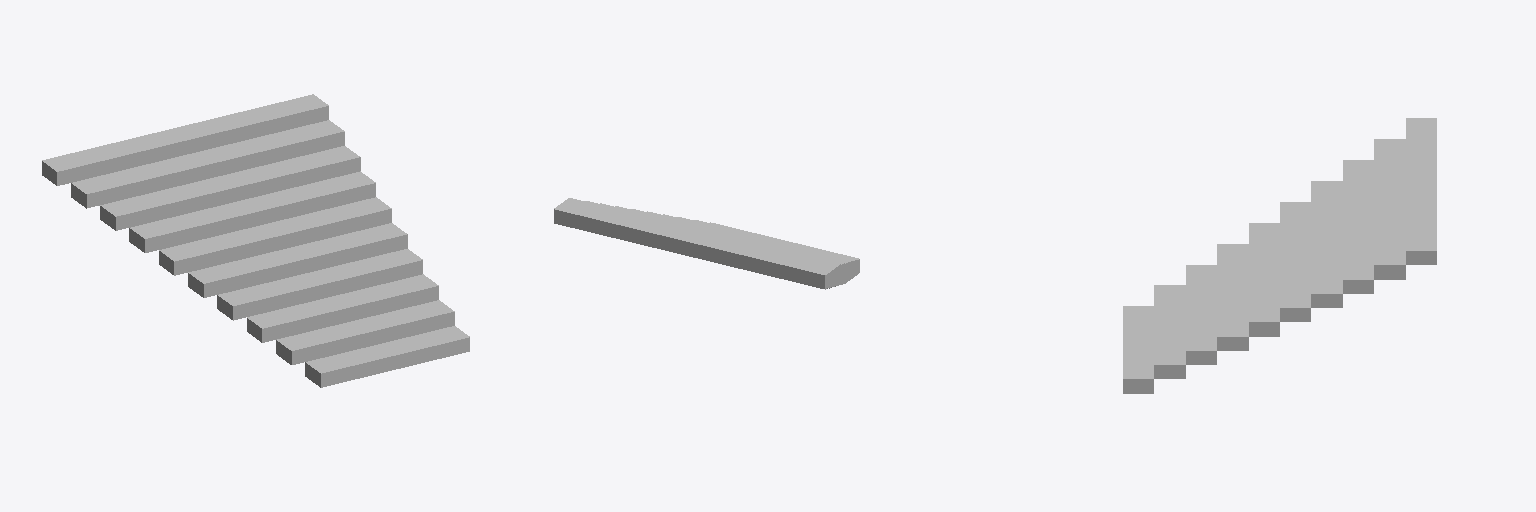
The model's file is Stair_Left.obj.
3 renders of one model, left to right at view 1: azimuth 30°, elevation 25°; view 2: azimuth 150°, elevation 25°; view 3: azimuth 270°, elevation 25°, orthographic.
Visible parts, largest first — view 1: Cube.001, Cube.000_Cube.002, Cube.002_Cube.003, Cube.003_Cube.004, Cube.004_Cube.005, Cube.005_Cube.006, Cube.006_Cube.007, Cube.007_Cube.008, Cube.008_Cube.009, Cube.009_Cube.010; view 2: Cube.001; view 3: Cube.001, Cube.000_Cube.002, Cube.002_Cube.003, Cube.003_Cube.004, Cube.004_Cube.005, Cube.005_Cube.006, Cube.006_Cube.007, Cube.007_Cube.008, Cube.008_Cube.009, Cube.009_Cube.010.
Part boxes in pixels (left/top/right/bottom): Cube.001: left=42, top=94, right=328, bottom=185; Cube.000_Cube.002: left=71, top=120, right=344, bottom=208; Cube.002_Cube.003: left=100, top=146, right=360, bottom=230; Cube.003_Cube.004: left=129, top=171, right=375, bottom=252; Cube.004_Cube.005: left=159, top=197, right=391, bottom=275; Cube.005_Cube.006: left=188, top=223, right=407, bottom=297; Cube.006_Cube.007: left=217, top=249, right=422, bottom=320; Cube.007_Cube.008: left=247, top=274, right=438, bottom=342; Cube.008_Cube.009: left=276, top=300, right=454, bottom=364; Cube.009_Cube.010: left=305, top=326, right=469, bottom=387; Cube.001: left=554, top=198, right=840, bottom=289; Cube.001: left=1406, top=118, right=1436, bottom=264; Cube.000_Cube.002: left=1374, top=139, right=1405, bottom=279; Cube.002_Cube.003: left=1343, top=160, right=1373, bottom=293; Cube.003_Cube.004: left=1311, top=181, right=1342, bottom=307; Cube.004_Cube.005: left=1280, top=202, right=1310, bottom=321; Cube.005_Cube.006: left=1249, top=223, right=1279, bottom=336; Cube.006_Cube.007: left=1217, top=244, right=1248, bottom=350; Cube.007_Cube.008: left=1186, top=265, right=1216, bottom=364; Cube.008_Cube.009: left=1154, top=285, right=1185, bottom=378; Cube.009_Cube.010: left=1123, top=306, right=1153, bottom=393.
Bounding box in the file's own units: 20 × 10 × 20.